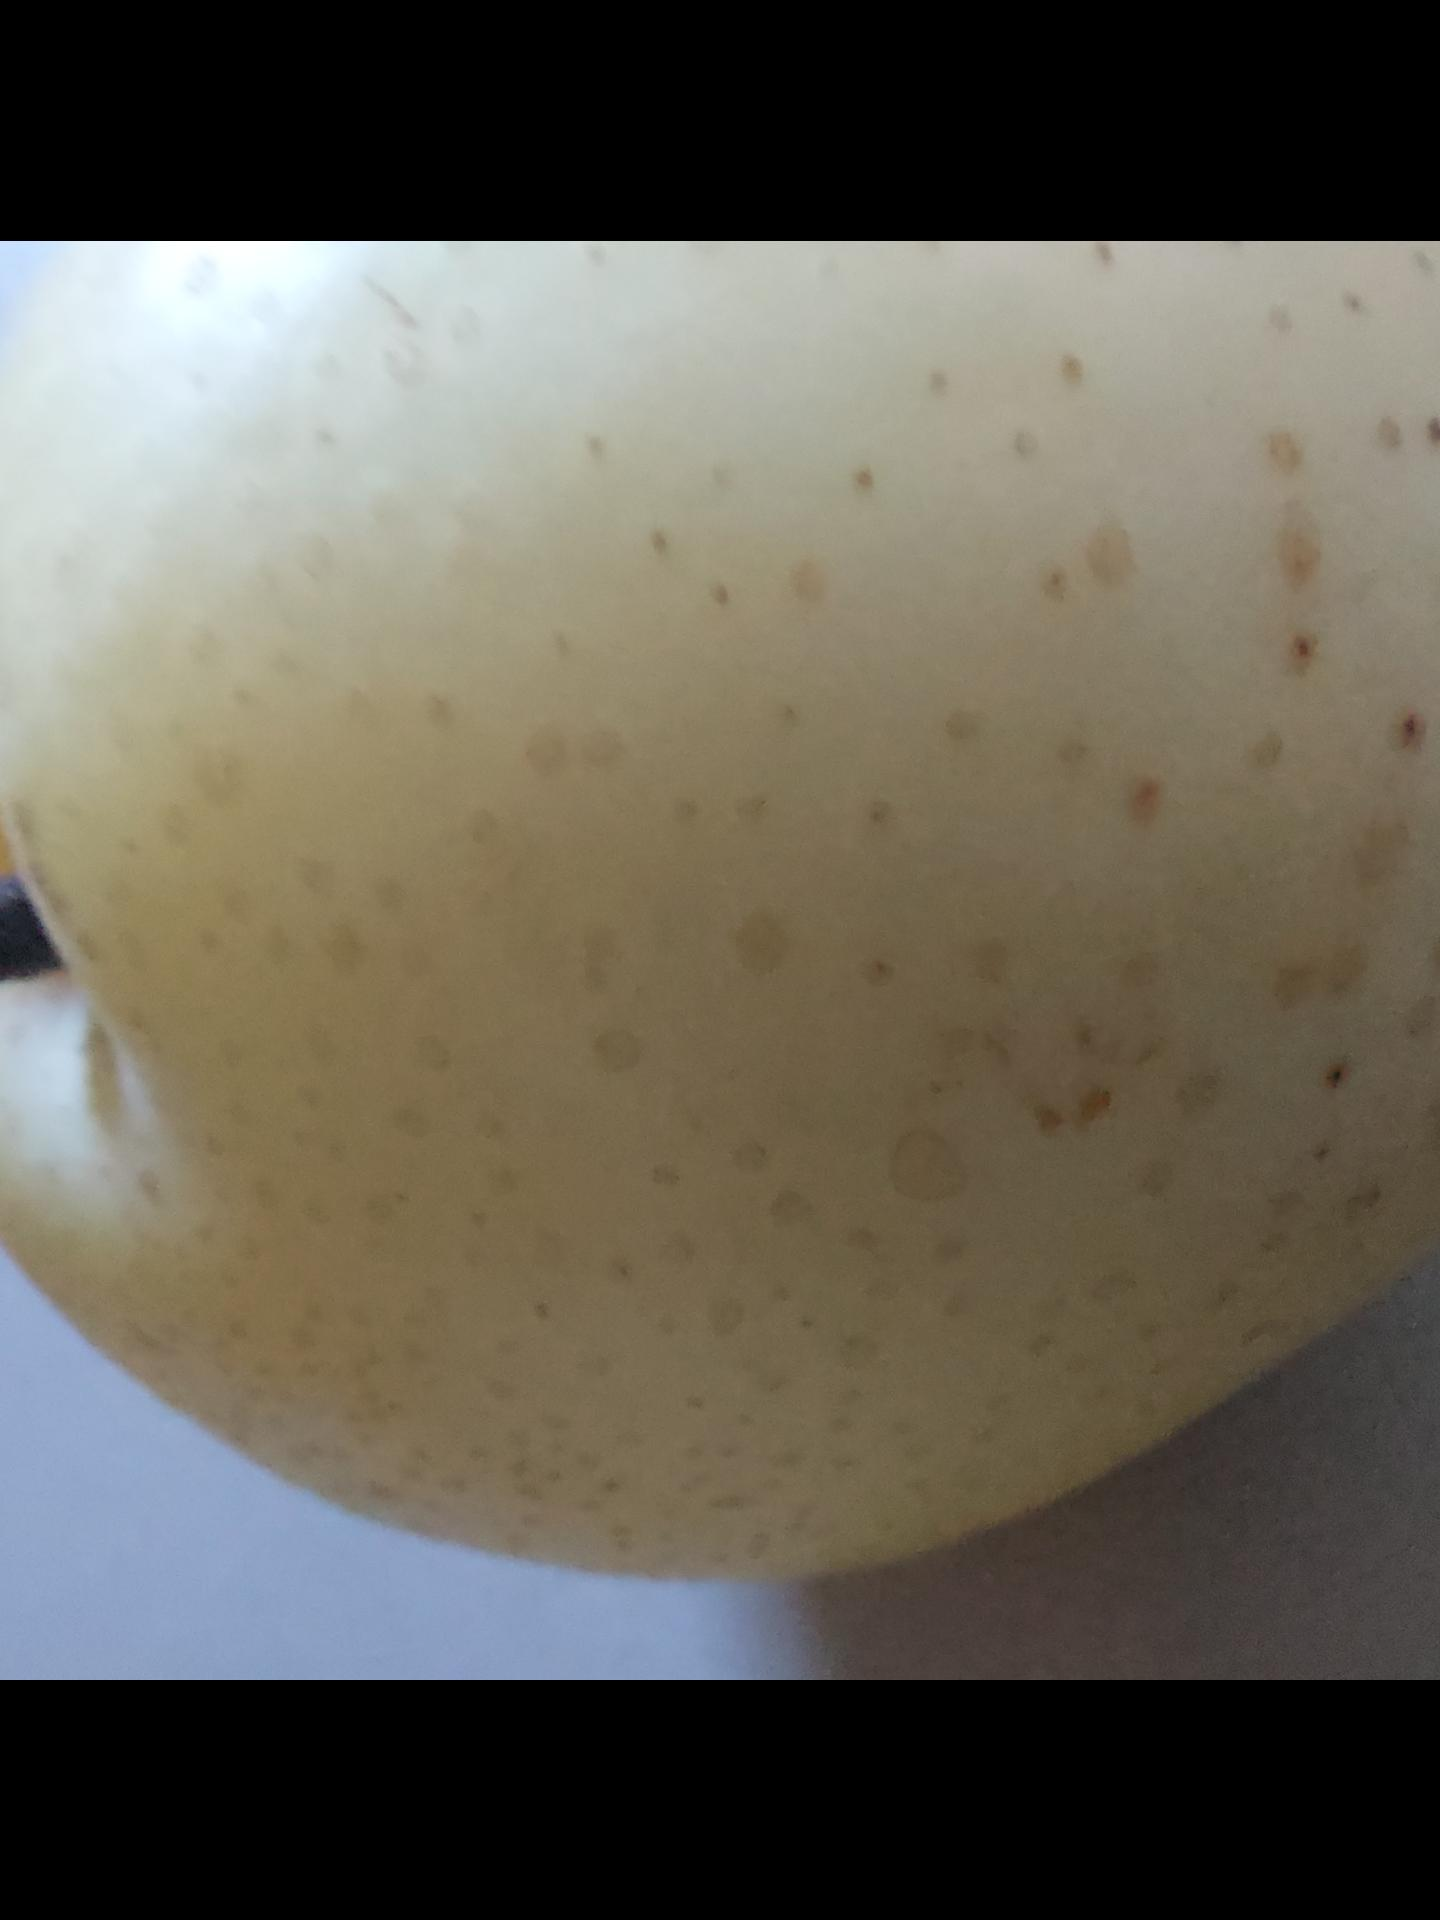Good Pear: (0, 240, 1440, 1665)
